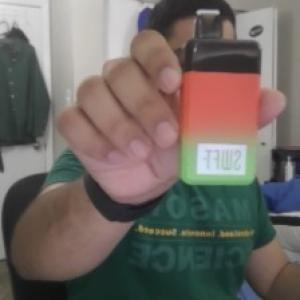Swift-E-Ciggirate: (178, 5, 266, 192)
